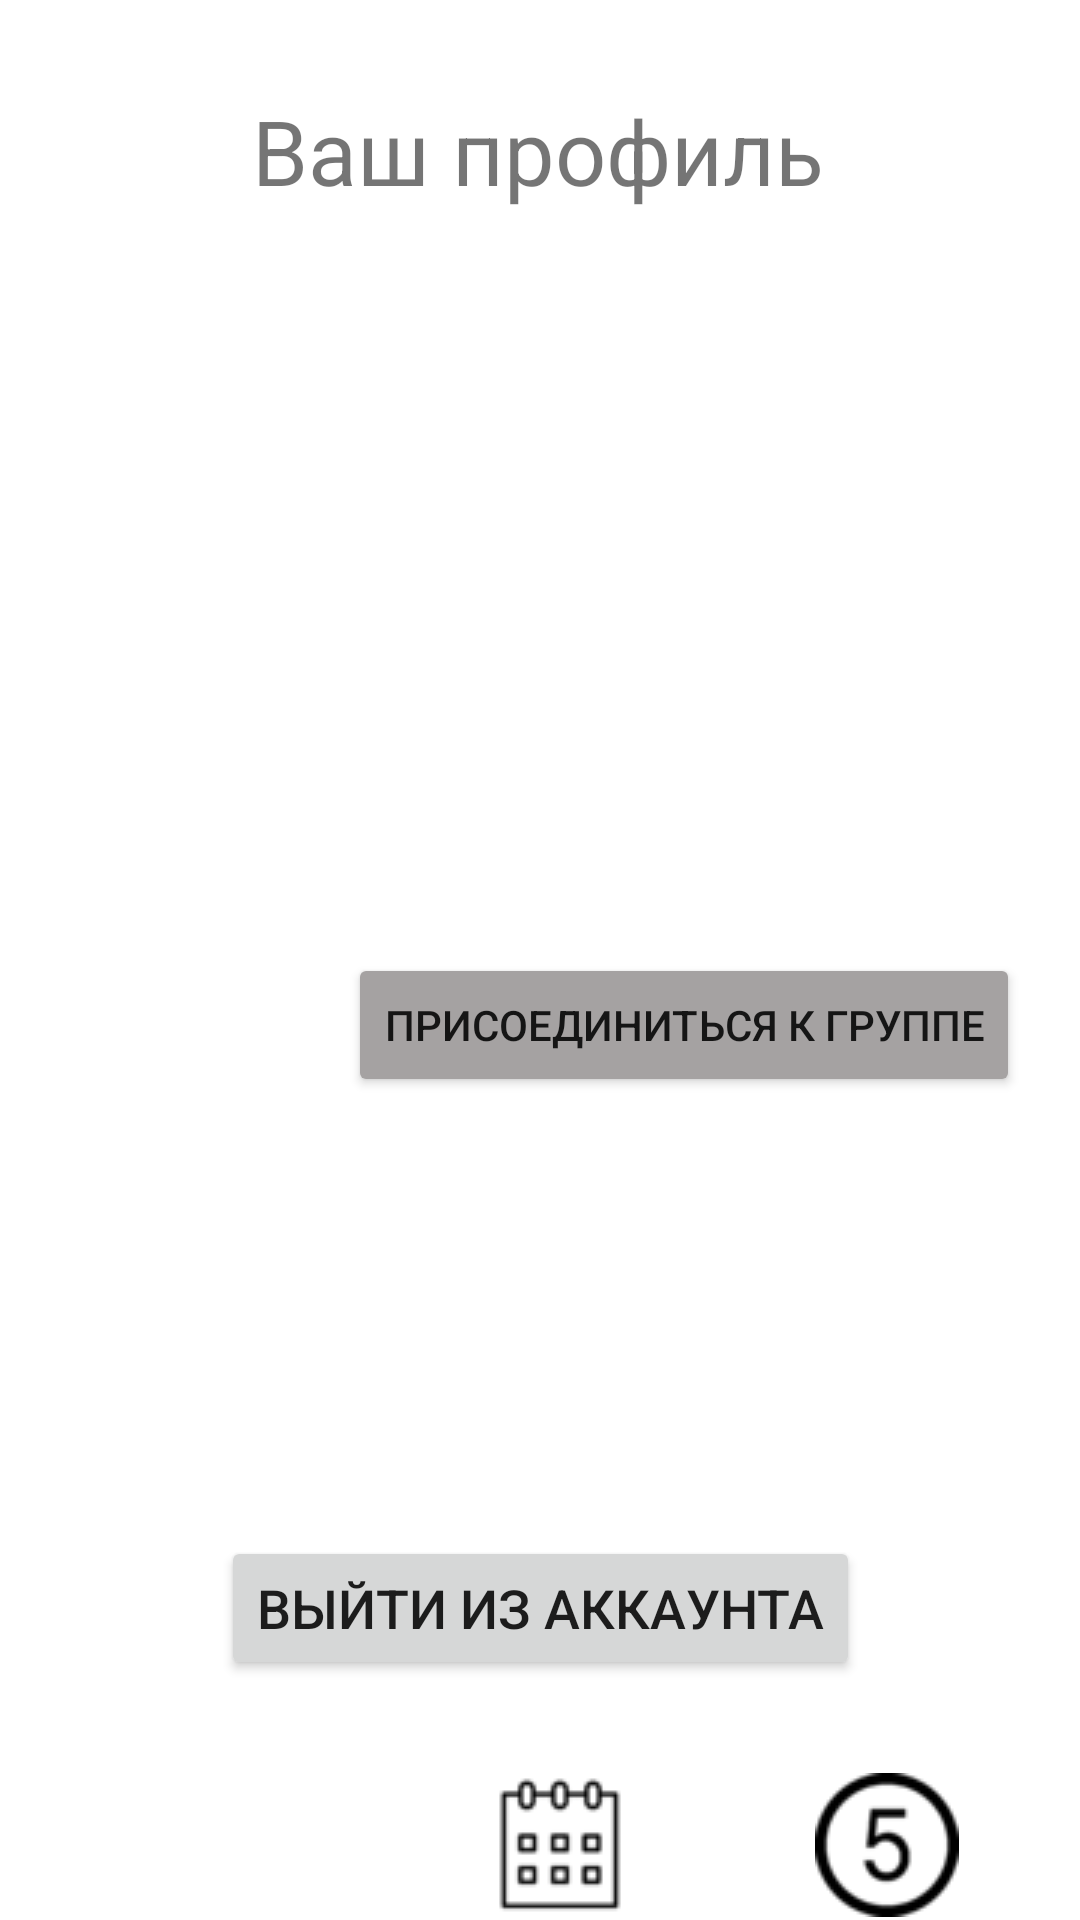

Screen size 1080*1920. Icon name, then its box in pixels as (x1, y1, x2, y2):
calendar: (499, 1778, 621, 1910)
